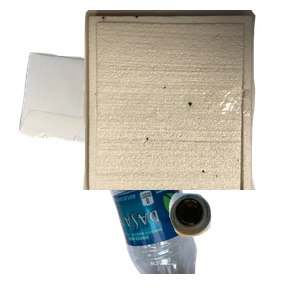glass: (166, 190, 300, 300)
paper: (17, 50, 231, 230)
plastic: (99, 120, 289, 300)
trash: (80, 10, 300, 190)
